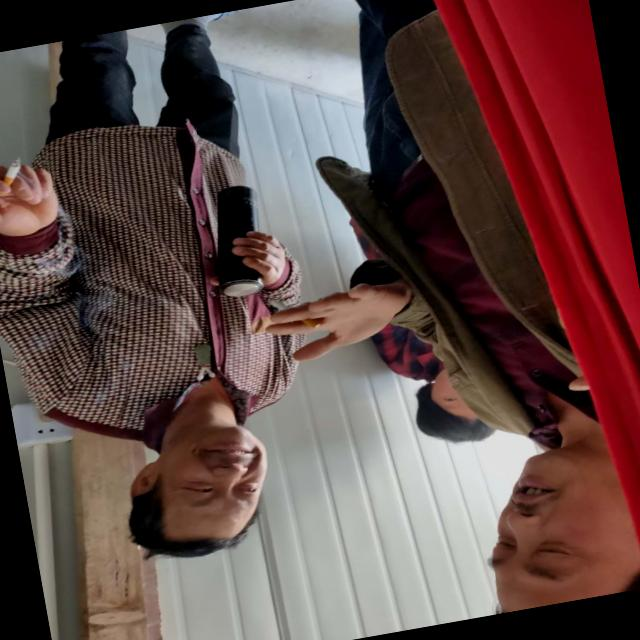smoke: (0, 153, 35, 201)
